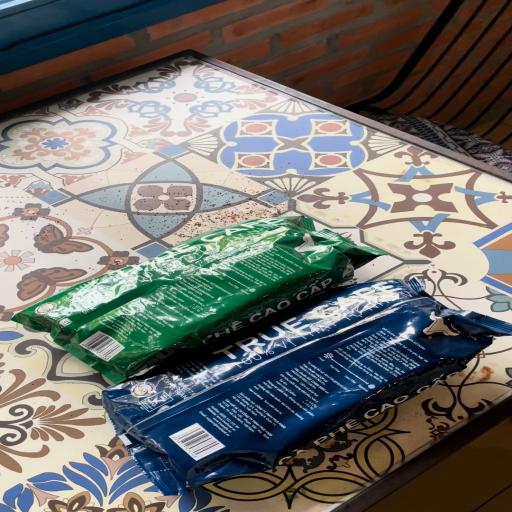cafe_hat: (102, 278, 512, 494)
cafe_xay: (14, 216, 385, 383)
